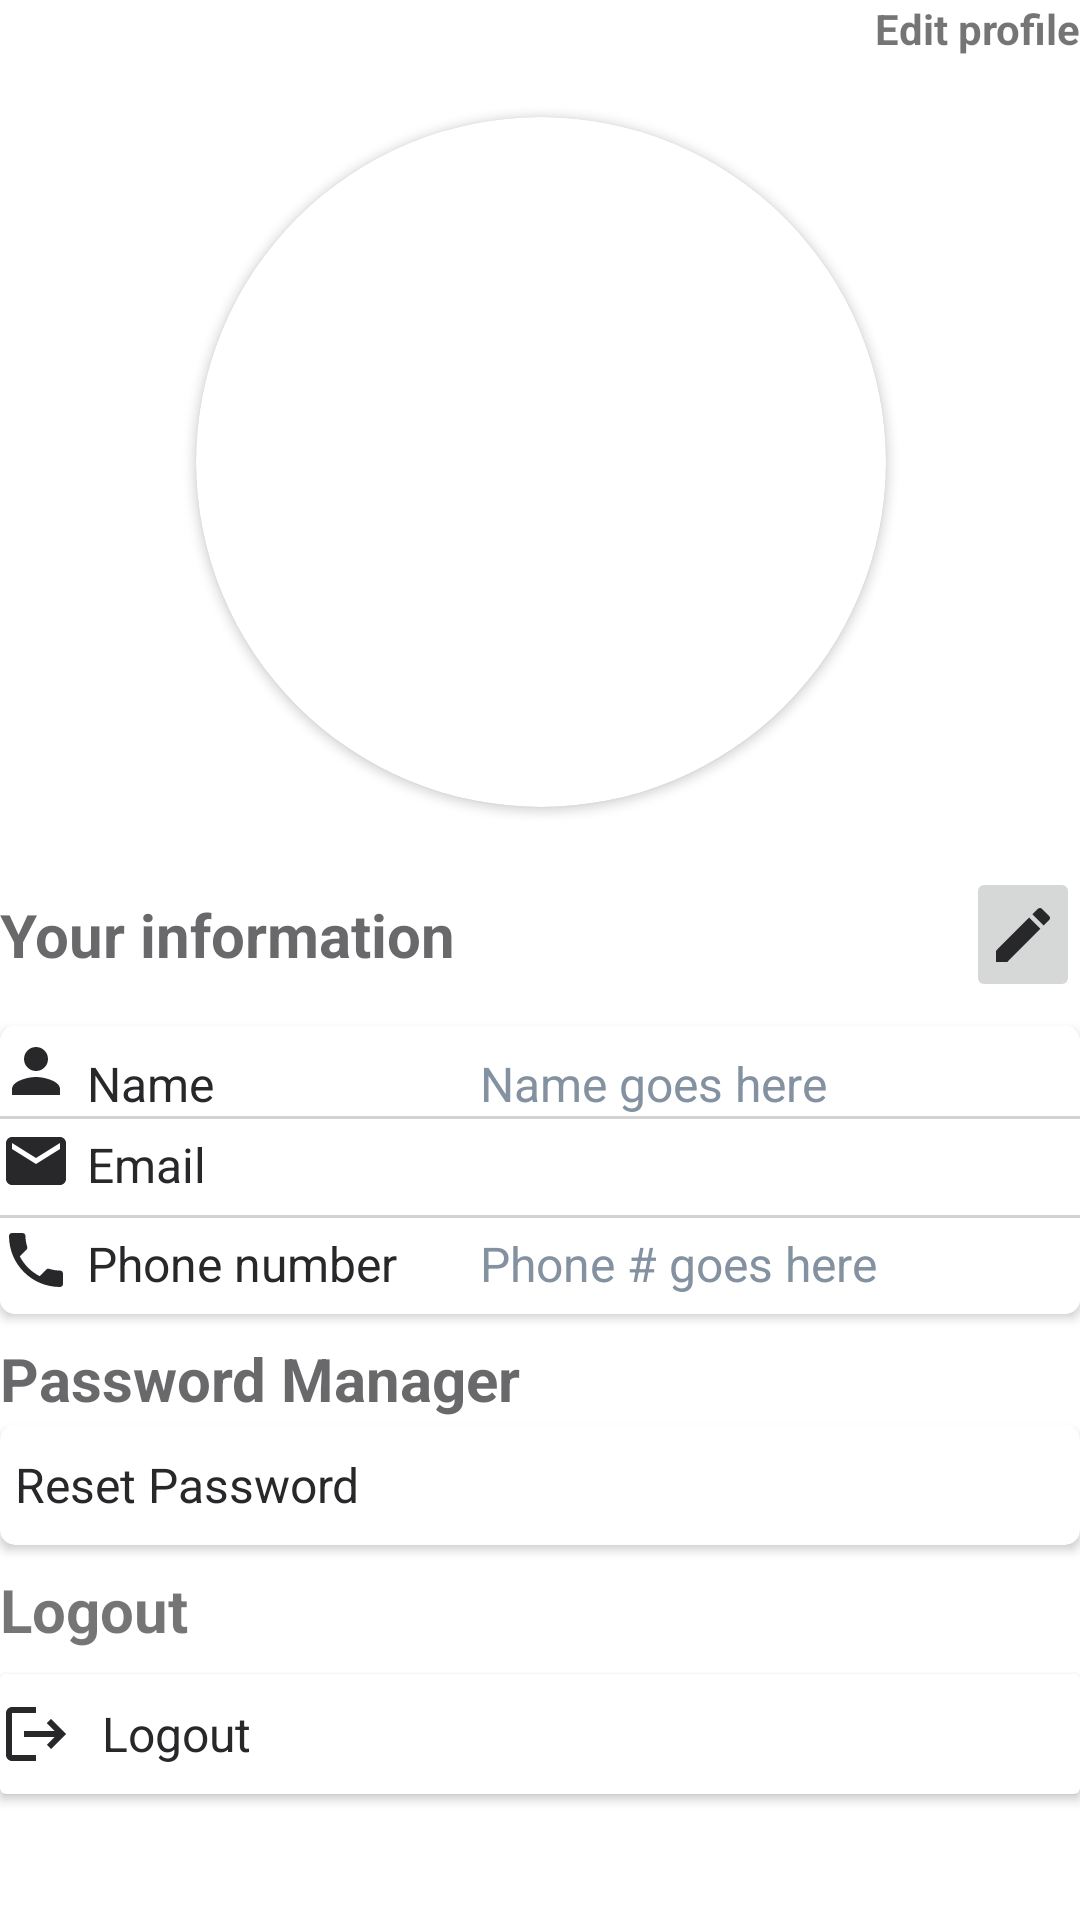

Named icons in this screenshot (1080px x 1920px) and their bounding boxes, BBox(x1, y1, x2, y2):
Edit button: BBox(978, 885, 1068, 984)
